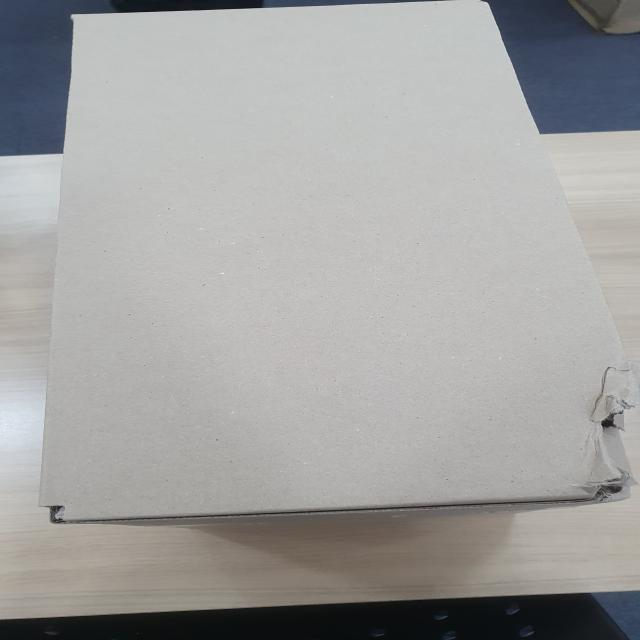hole: (586, 403, 628, 435), (37, 498, 79, 526)
